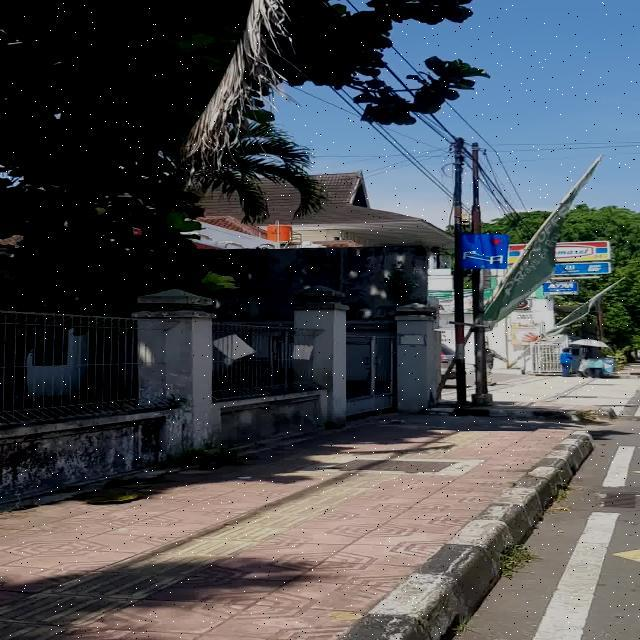Rumah Sakit: (461, 234, 509, 268)
